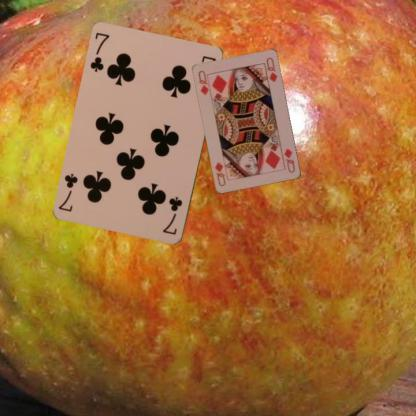7c: (88, 30, 111, 74), (160, 194, 184, 236)
Qd: (196, 68, 213, 97), (282, 146, 296, 174)
